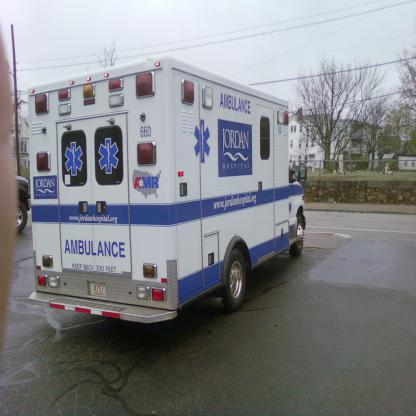Ambulance: (27, 56, 309, 323)
